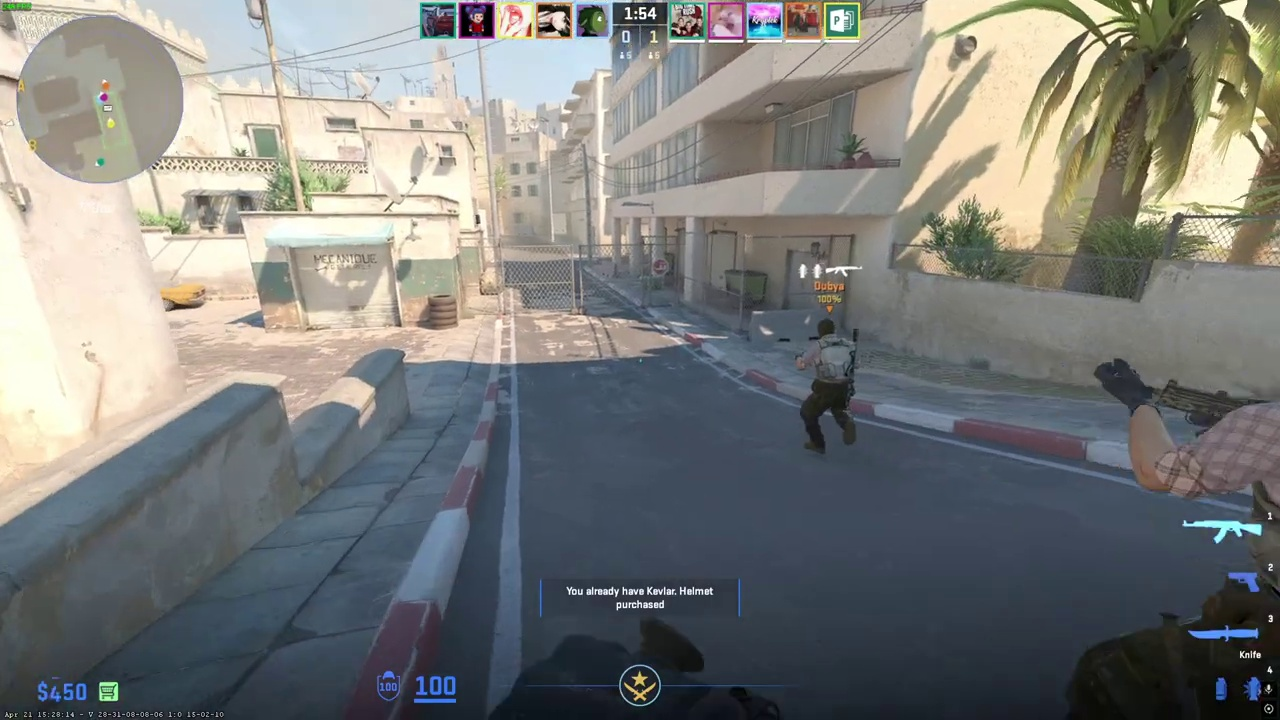Terrorist: (1104, 359, 1280, 720), (800, 318, 860, 454)
